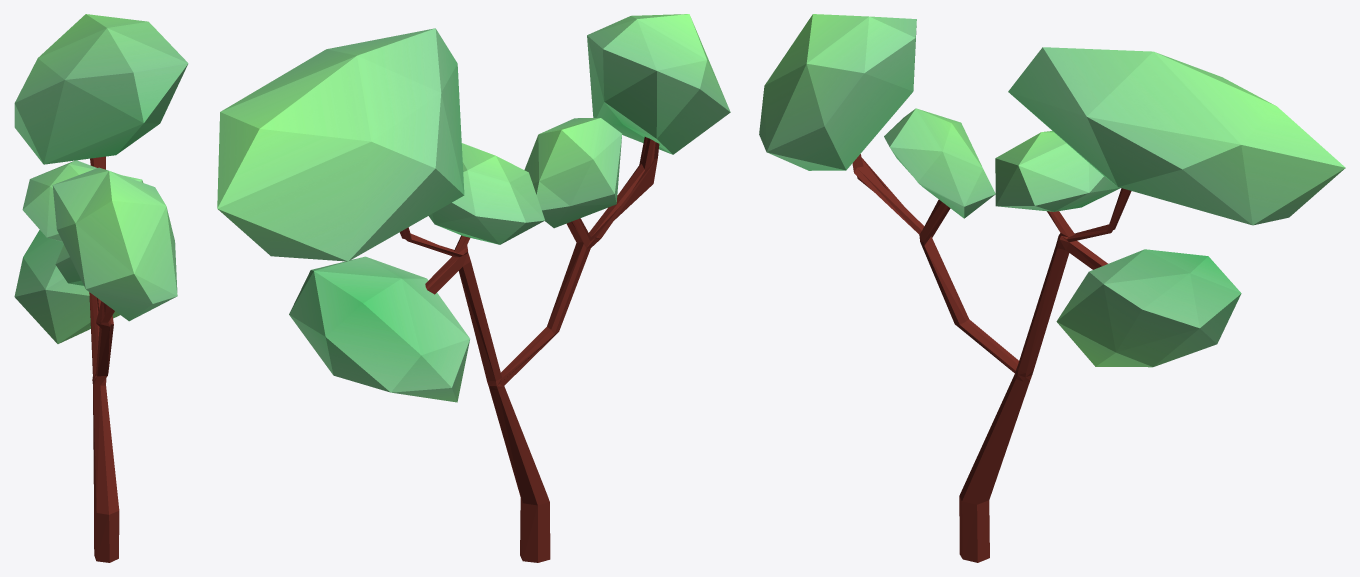
Rendered from tree.FBX.
The picture shows the model from 3 angles, left to right: view 1: azimuth 30°, elevation 25°; view 2: azimuth 150°, elevation 25°; view 3: azimuth 270°, elevation 25°; orthographic projection. The views are drawn at different scales.
Parts seen in each view (by area): view 1: Safari_Tree001; view 2: Safari_Tree001; view 3: Safari_Tree001.
Part boxes in pixels (<box>): Safari_Tree001: <box>14,14,188,562</box>; Safari_Tree001: <box>217,14,730,562</box>; Safari_Tree001: <box>759,14,1345,562</box>.
Size of the model in its own units: 224 by 386 by 375.
2 materials, 1 textured.
